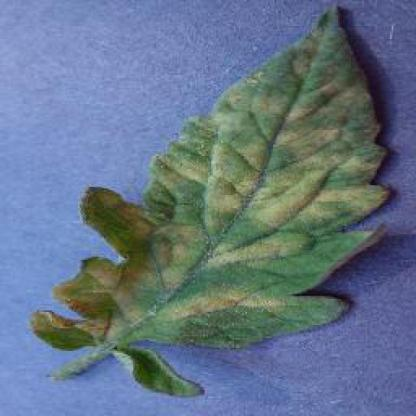Tomato_Leaf_Mold: (30, 3, 393, 352)
